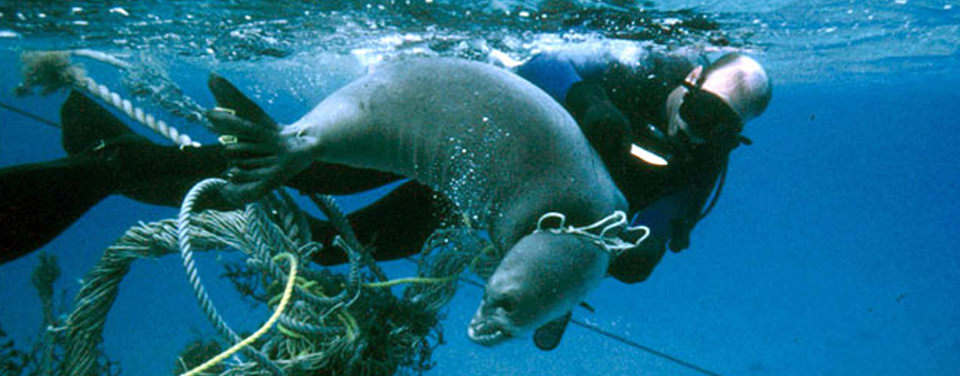litter: (33, 195, 471, 376), (173, 173, 474, 374)
